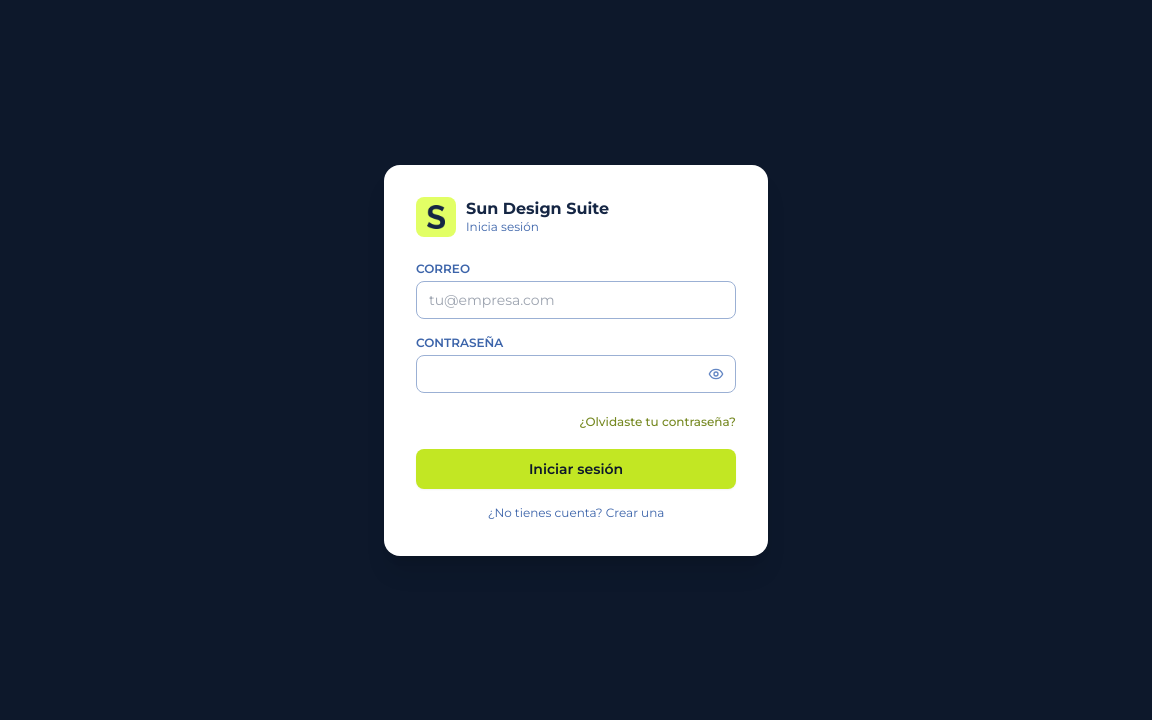
Scenario: crear cuenta › si las contraseñas no coinciden, no se crea nada
The width and height of the screenshot is (1152, 720).
Click the button "¿No tienes cuenta? Crear una": [576, 512] box [416,504,736,520]
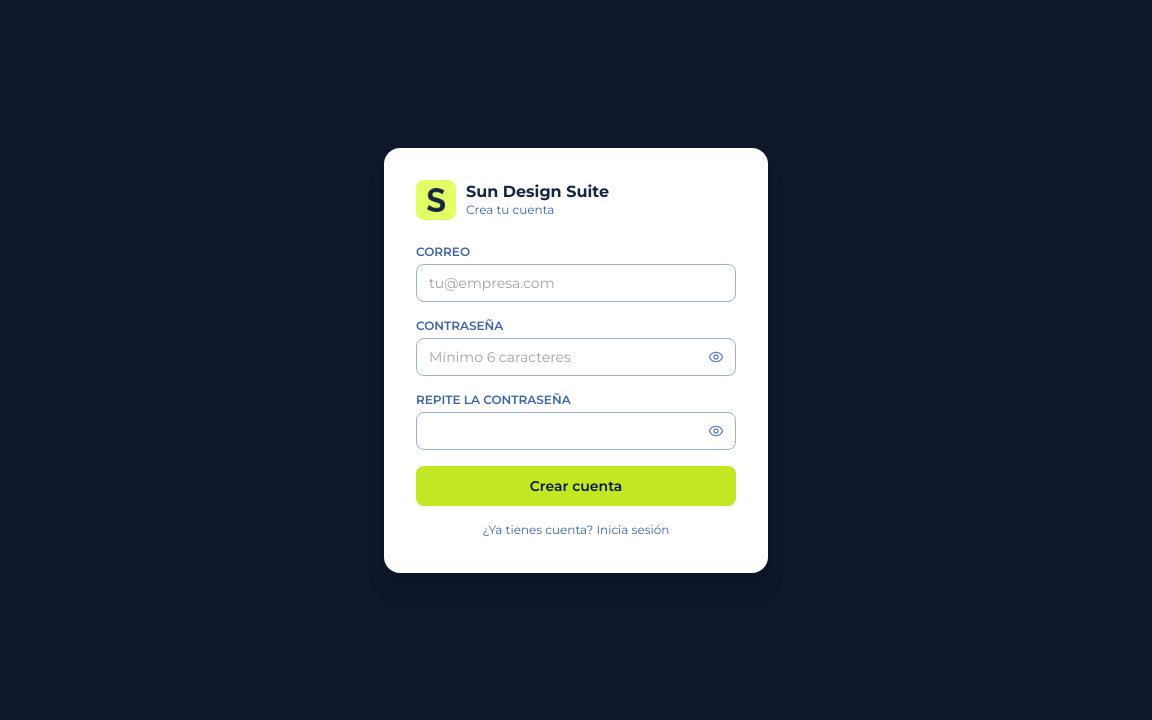
In the field labelled "Correo": [576, 282] box [416,264,736,302], type "nuevo@solenium.co"
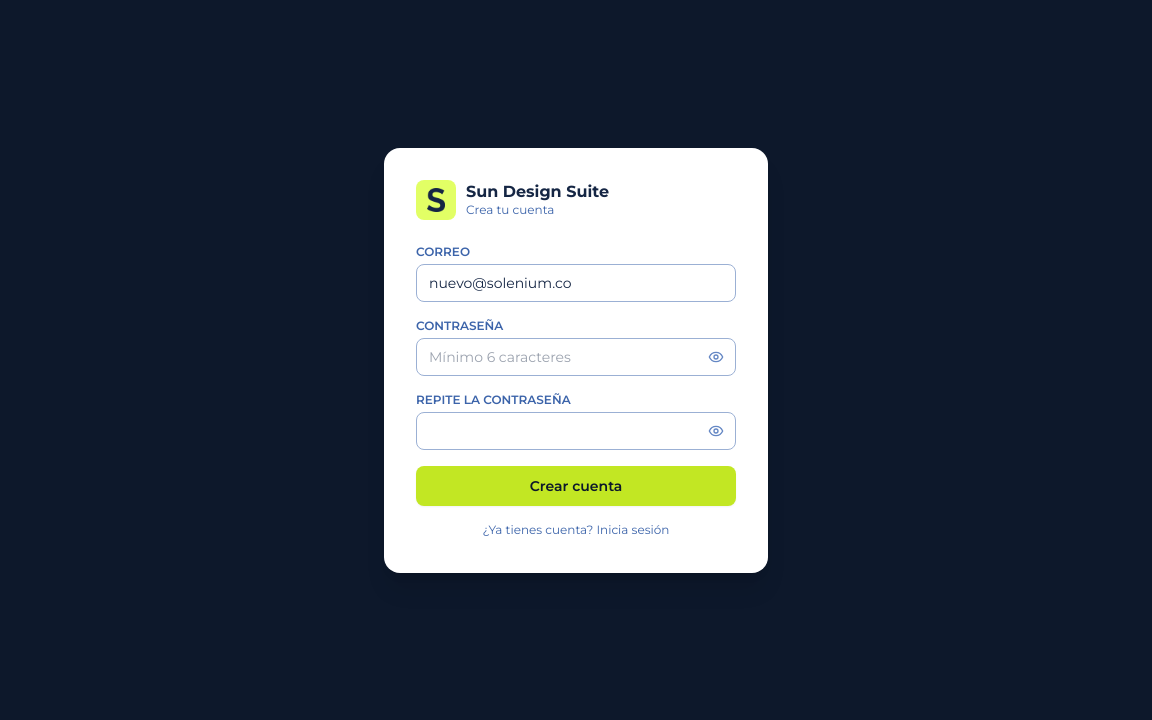
In the password field labelled "Contraseña": [576, 356] box [416,338,736,376], type "Solenium2026"
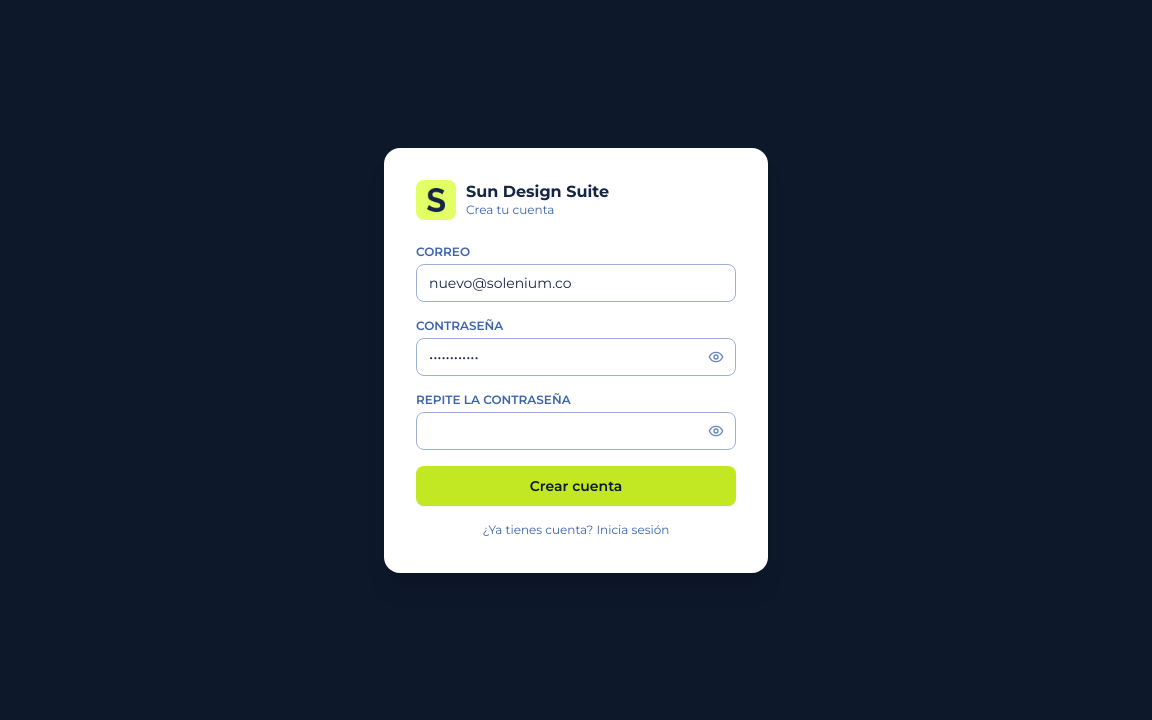
In the password field labelled "Repite la contraseña": [576, 430] box [416,412,736,450], type "Solenium2O26"
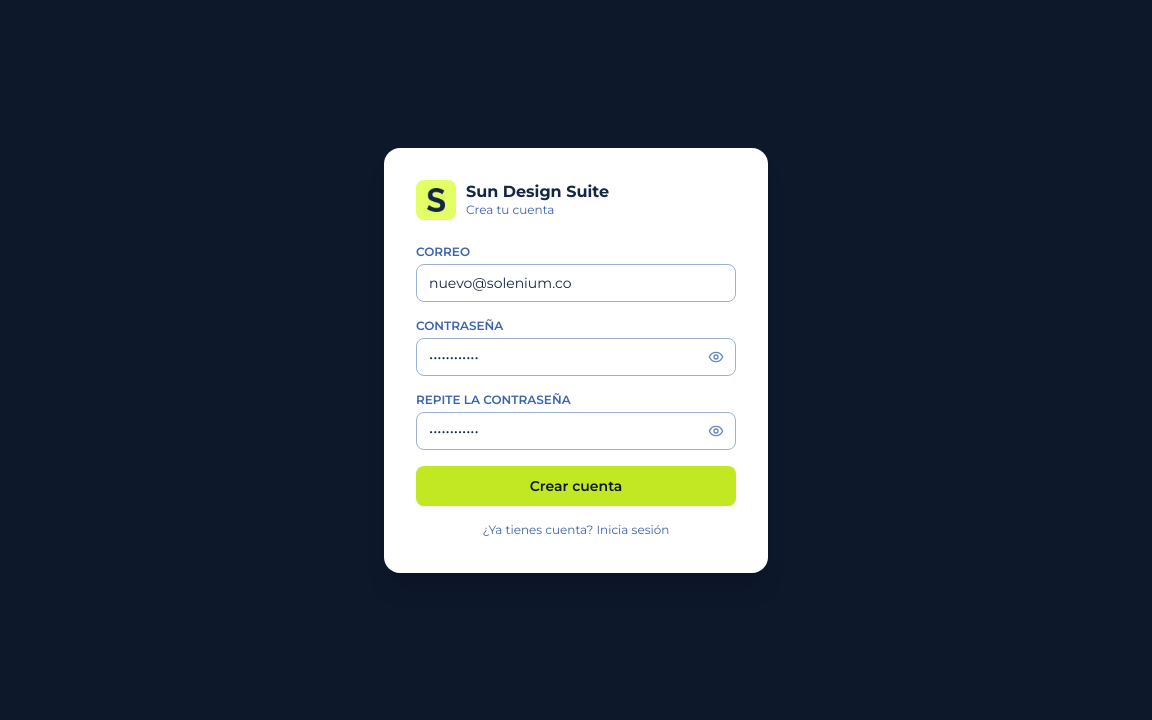
Click the button "Crear cuenta": [576, 486] box [416,466,736,506]
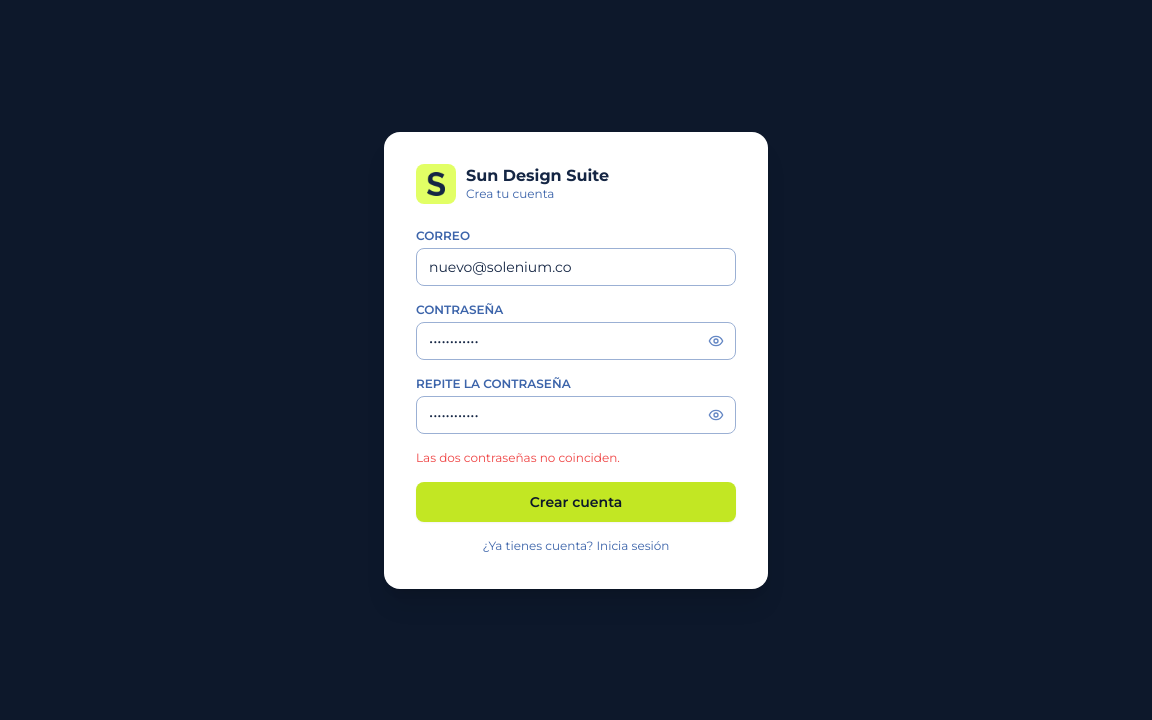
Check: the message shows "no coinciden", box [416,450,620,464]
